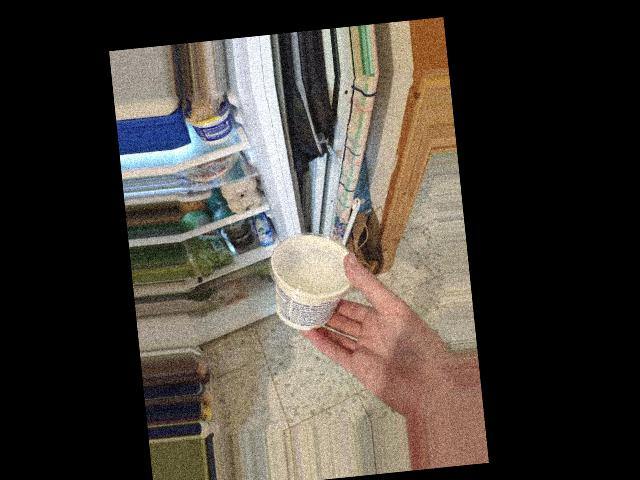cotage: (273, 241, 360, 328)
